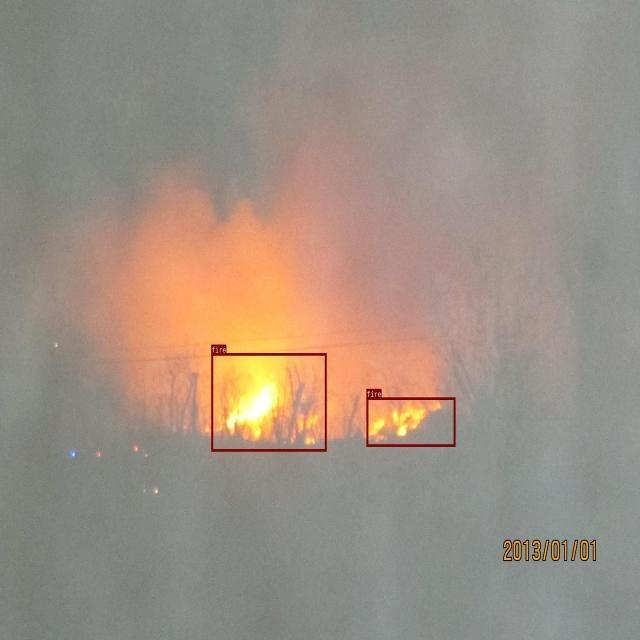fire: (211, 353, 326, 451), (366, 397, 455, 446)
